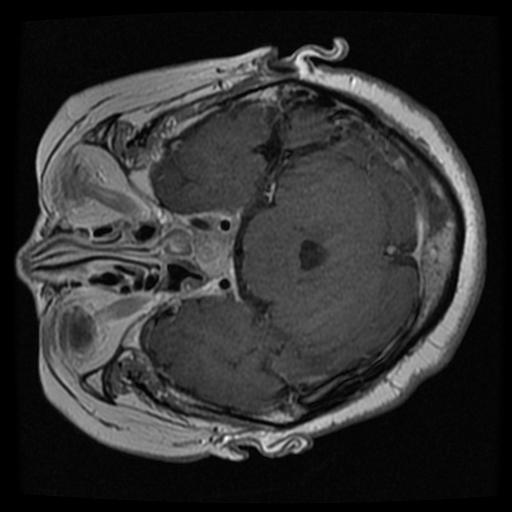pituitary tumour: (191, 230, 236, 277)
